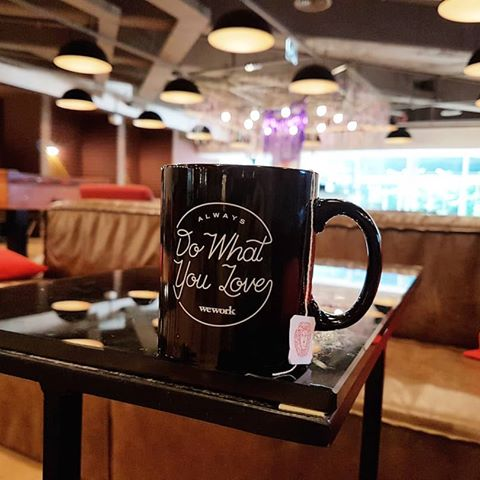wework: (197, 302, 237, 317)
